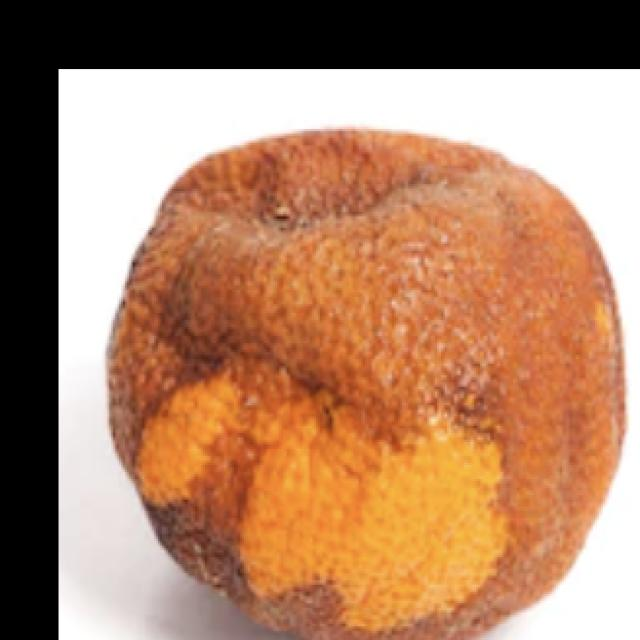sangat_busuk: (108, 135, 622, 638)
